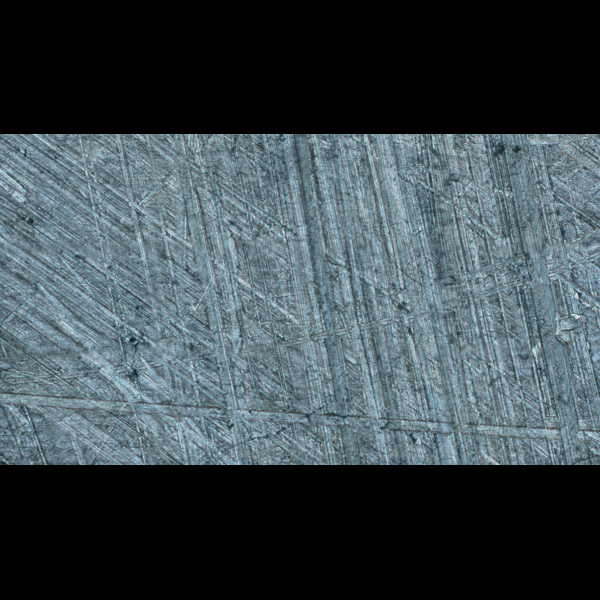d: (0, 221, 599, 394), (166, 135, 304, 465), (0, 385, 600, 456)
